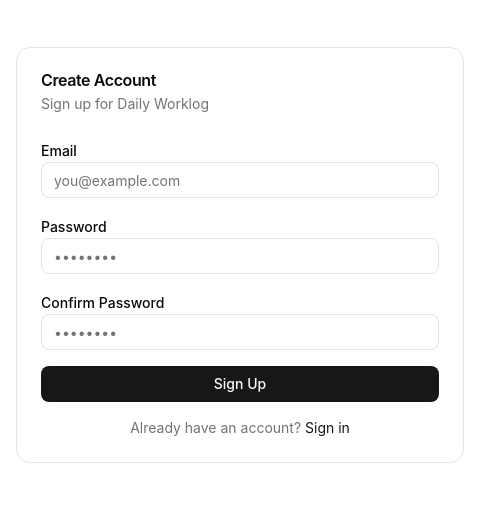
it: Signup Page › successful signup shows success message
The width and height of the screenshot is (481, 511).
Type "new@example.com" into the field with placeholder "you@example.com" at (240, 180), box [41,162,439,198]
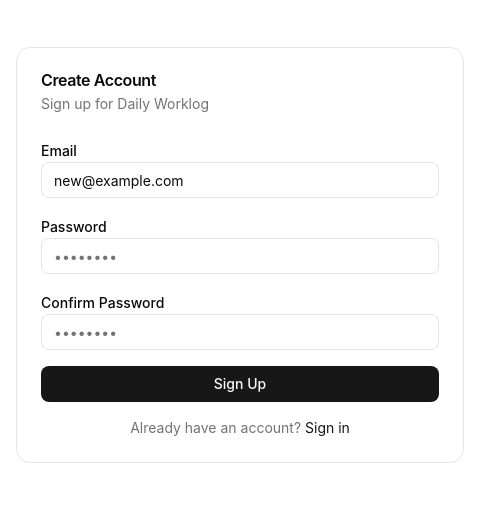
Type "password123" into the password field with placeholder "••••••••" at (240, 256), box [41,238,439,274]
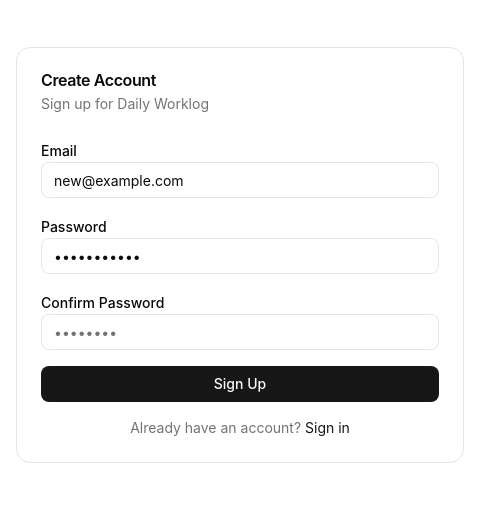
Type "password123" into the password field with placeholder "••••••••" at (240, 332), box [41,314,439,350]
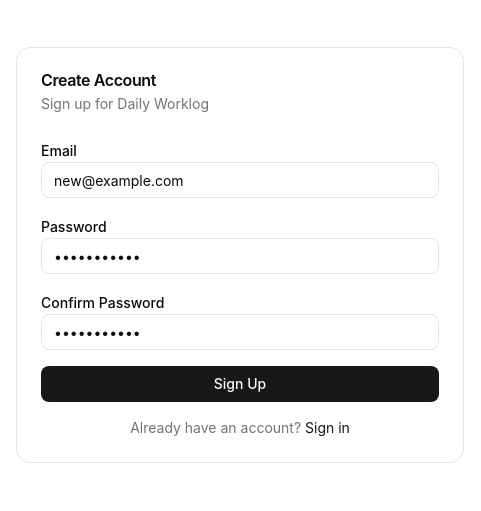
Click the button "Sign Up" at (240, 384), box [41,366,439,402]
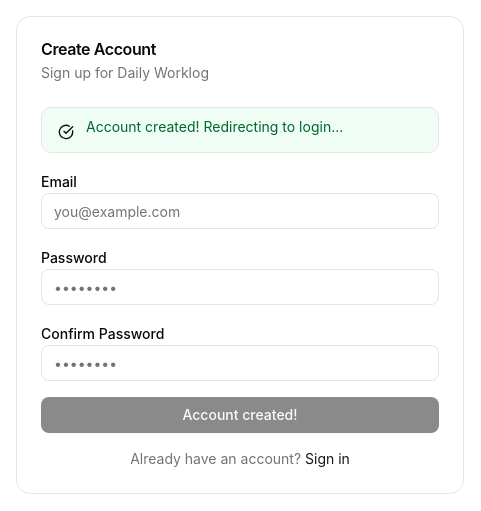
Now the text "Account created! Redirecting to login..." is shown, box [86,118,343,135]
